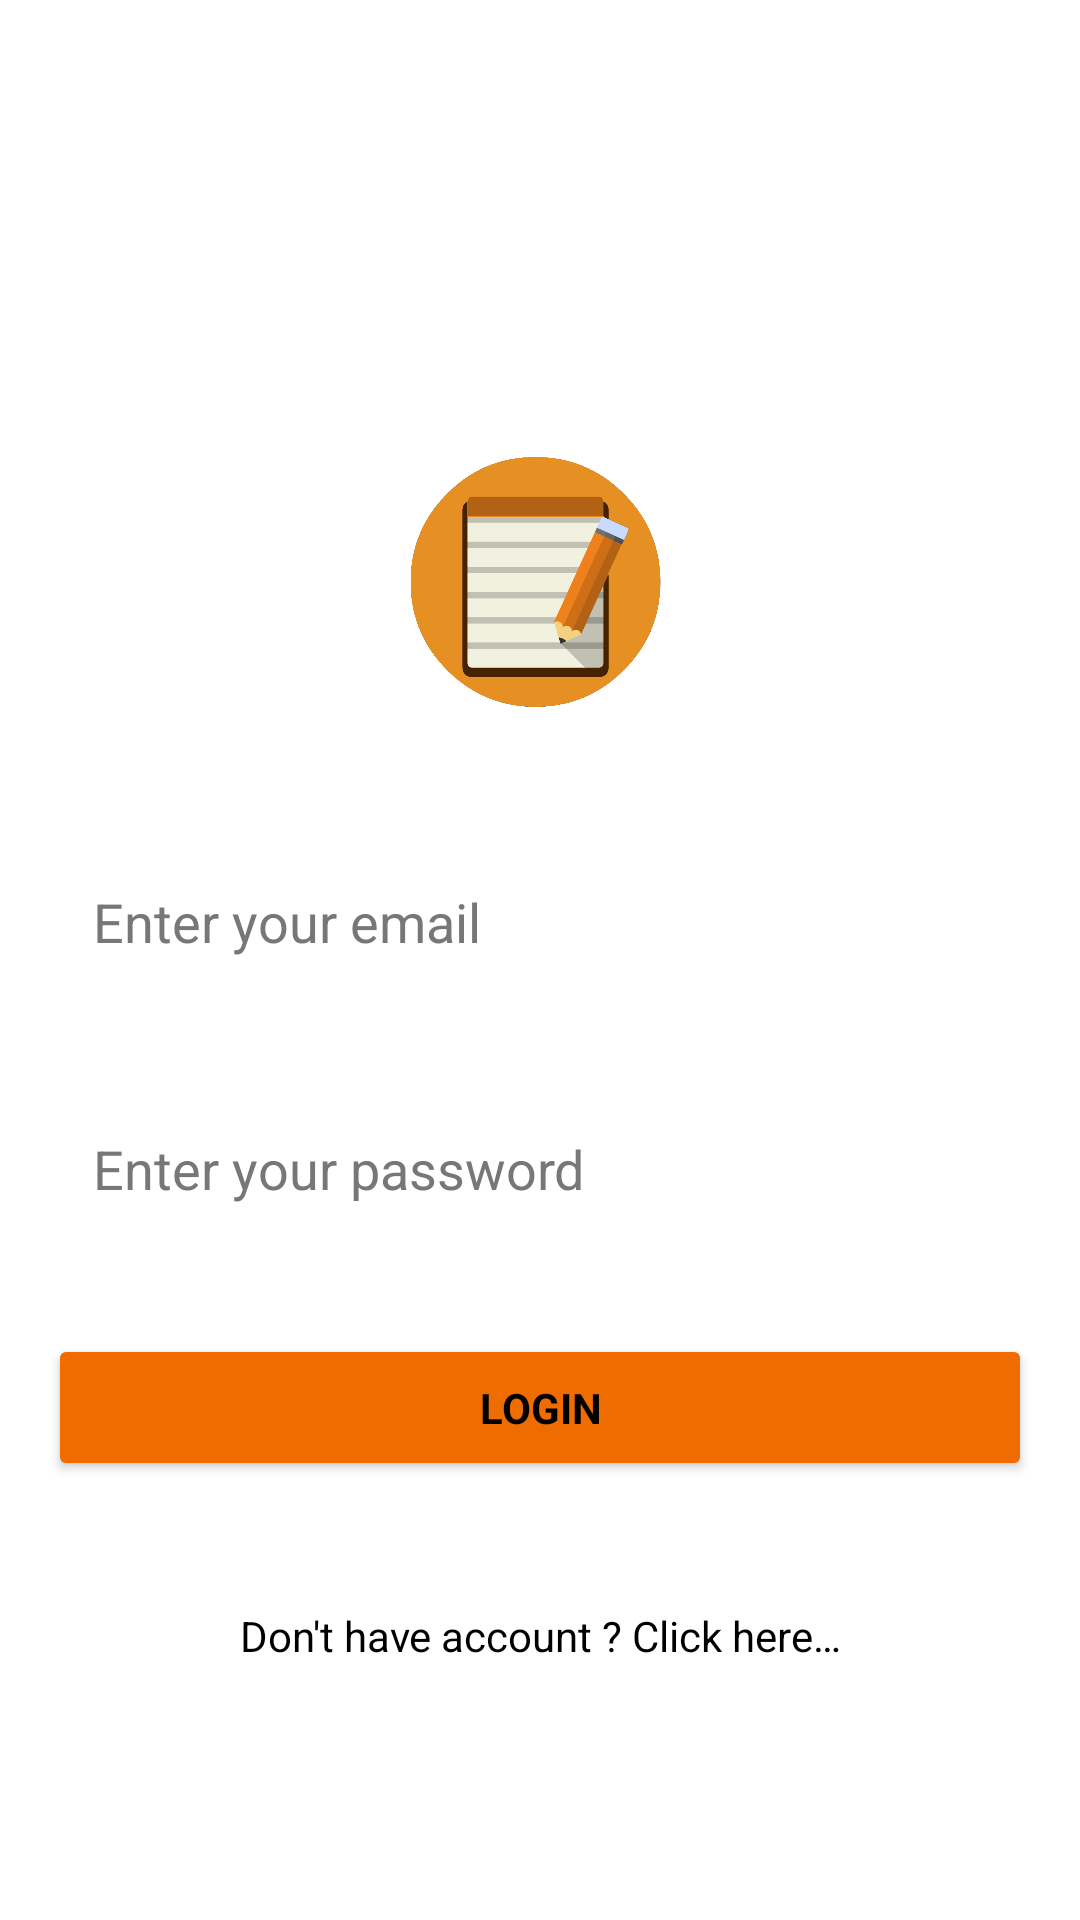

Screen size 1080 × 1920. Icon name, then its center in pixels as [x,y]:
todo: [536,582]
